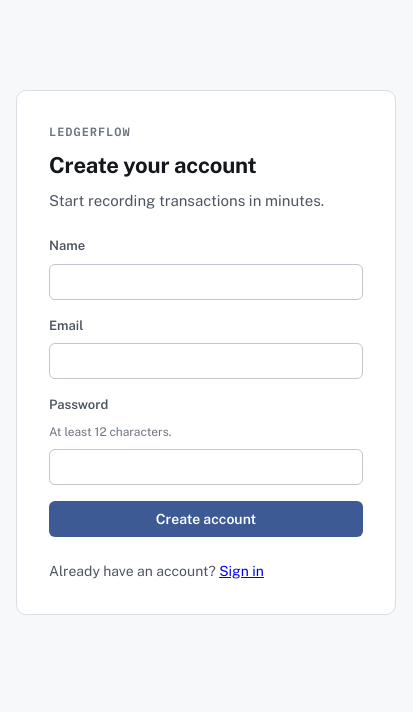
Test case: RegisterPage › surfaces a non-field error (e.g. duplicate email) as a form error
The width and height of the screenshot is (413, 712).
In the field labelled "Name": (206, 282) [49,264,363,300], type "Ada"
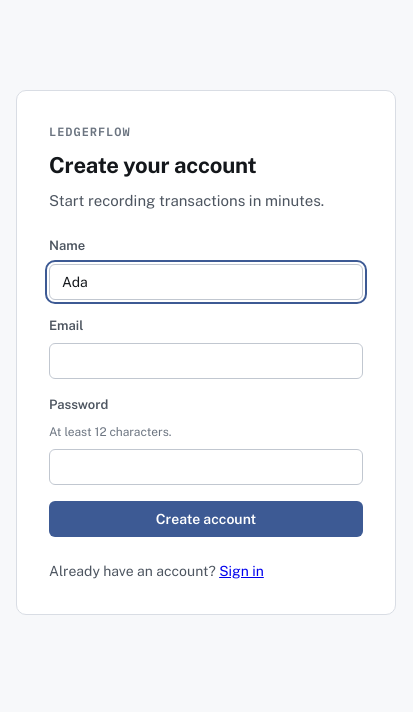
In the field labelled "Email": (206, 361) [49,343,363,379], type "ada@example.com"
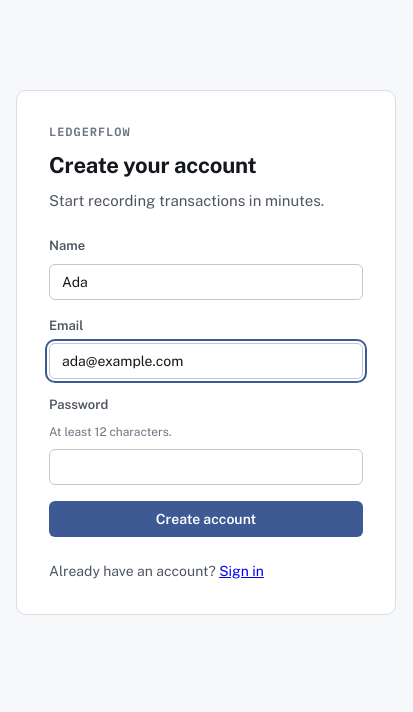
In the password field labelled "Password": (206, 466) [49,448,363,484], type "correct-horse-battery"
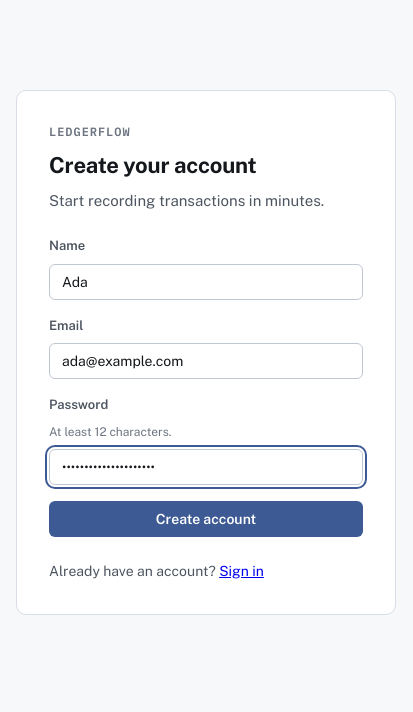
Click the button "Create account": (206, 518) [49,500,363,536]
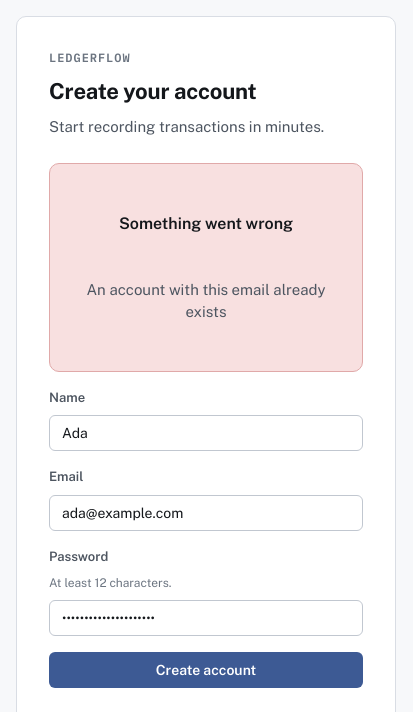
expect the message shows "already exists": met, box [86,280,326,320]
